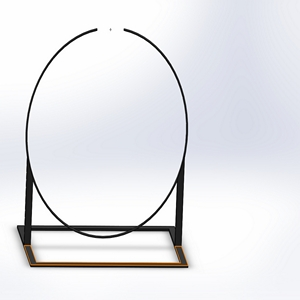circle: (16, 23, 190, 270)
